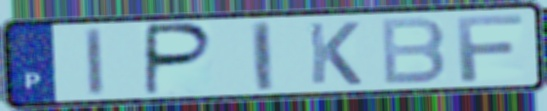B: (377, 15, 449, 87)
F: (453, 12, 527, 83)
I: (248, 19, 277, 93), (83, 25, 107, 97)
K: (305, 20, 365, 87)
P: (141, 21, 217, 98)
